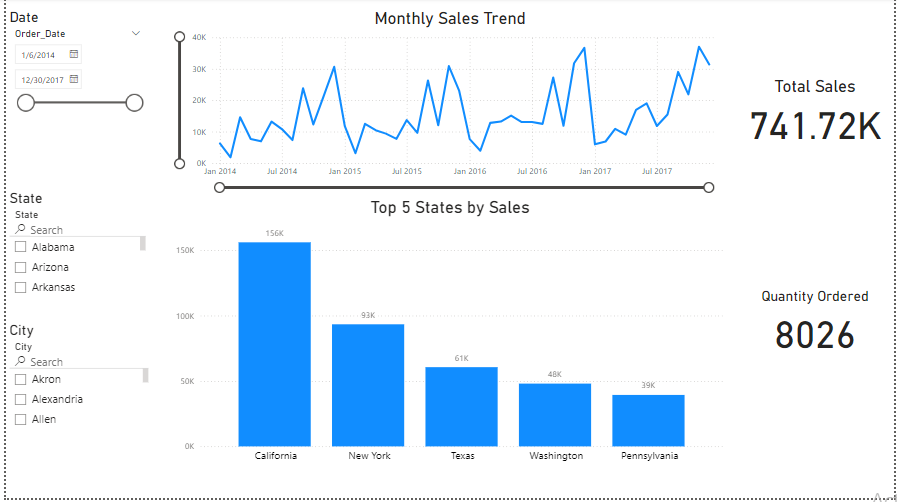

What the dashboard file says about the page in this screenshot:
{"tool":"powerbi","page":{"name":"Sales Visuals","canvas":[1280,720],"ordinal":2},"visuals":[{"type":"slicer","title":"Date","fields":{"Values":["sales_forecasting_cleaned.Order_Date"]},"box":[0,15.8,205.9,185.8],"z":0},{"type":"slicer","title":"State","fields":{"Values":["sales_forecasting_cleaned.State"]},"box":[0,276.5,205.9,159.8],"z":1000},{"type":"slicer","title":"City","fields":{"Values":["sales_forecasting_cleaned.City"]},"box":[0,466.6,210.2,155.5],"z":2000},{"type":"lineChart","title":"Monthly Sales Trend","fields":{"Y":["Sum(sales_forecasting_cleaned.Total_Sales)"],"Category":["sales_forecasting_cleaned.Order_Date.Variation.Date Hierarchy.Year","sales_forecasting_cleaned.Order_Date.Variation.Date Hierarchy.Quarter","sales_forecasting_cleaned.Order_Date.Variation.Date Hierarchy.Month","sales_forecasting_cleaned.Order_Date.Variation.Date Hierarchy.Day"]},"box":[239,15.8,800.6,267.8],"z":3000},{"type":"card","title":"Total Sales","fields":{"Values":["Sum(sales_forecasting_cleaned.Total_Sales)"]},"box":[1049.9,114.2,230.1,99.1],"z":4000},{"type":"columnChart","title":"Top 5 States by Sales","fields":{"Category":["sales_forecasting_cleaned.State"],"Y":["Sum(sales_forecasting_cleaned.Total_Sales)"]},"box":[239,288,800.6,391.7],"z":5000},{"type":"card","title":"Quantity Ordered","fields":{"Values":["Sum(sales_forecasting_cleaned.Quantity)"]},"box":[1049.8,417.6,230.4,96.5],"z":6000}]}

Visuals, with their boxes in screenshot pixels (x1, y1, x2, y2), scaled from the page's 1280x720 canvas onto the 897x502 screenshot:
"Date" slicer: {"x1": 0, "y1": 11, "x2": 144, "y2": 141}
"State" slicer: {"x1": 0, "y1": 193, "x2": 144, "y2": 304}
"City" slicer: {"x1": 0, "y1": 325, "x2": 147, "y2": 434}
"Monthly Sales Trend" lineChart: {"x1": 167, "y1": 11, "x2": 729, "y2": 198}
"Total Sales" card: {"x1": 736, "y1": 80, "x2": 896, "y2": 149}
"Top 5 States by Sales" columnChart: {"x1": 167, "y1": 201, "x2": 729, "y2": 474}
"Quantity Ordered" card: {"x1": 736, "y1": 291, "x2": 896, "y2": 358}
